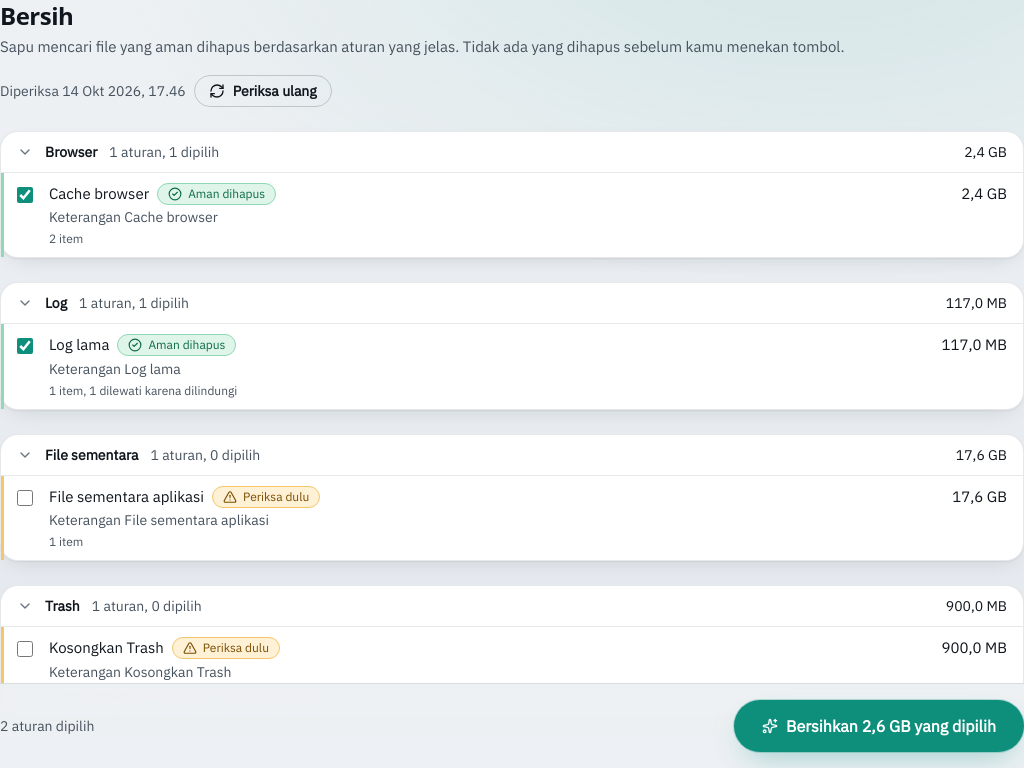
CleanView › previews before cleaning and requires the permanent acknowledgement for Trash
The width and height of the screenshot is (1024, 768).
Check: the checkbox labelled "Cache browser" is shown, box [17,186,33,202]
Click the checkbox labelled "Kosongkan Trash": (25, 649) [17,641,33,657]
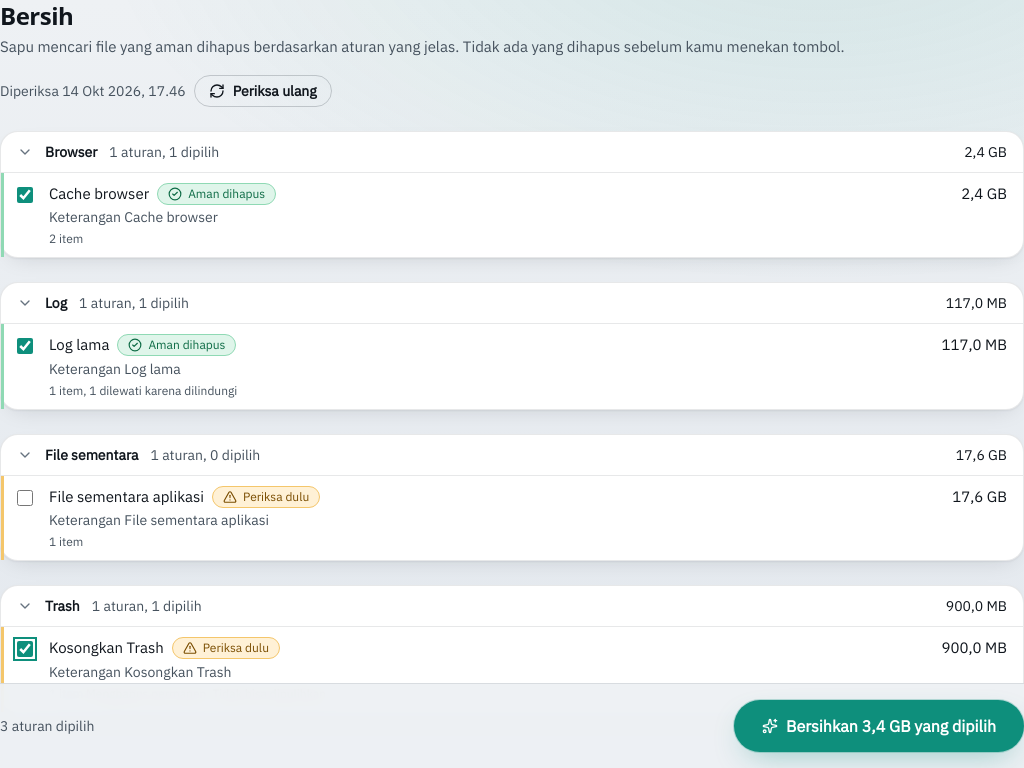
Click the button "Bersihkan 3,4 GB yang dipilih": (879, 726) [734,700,1023,752]
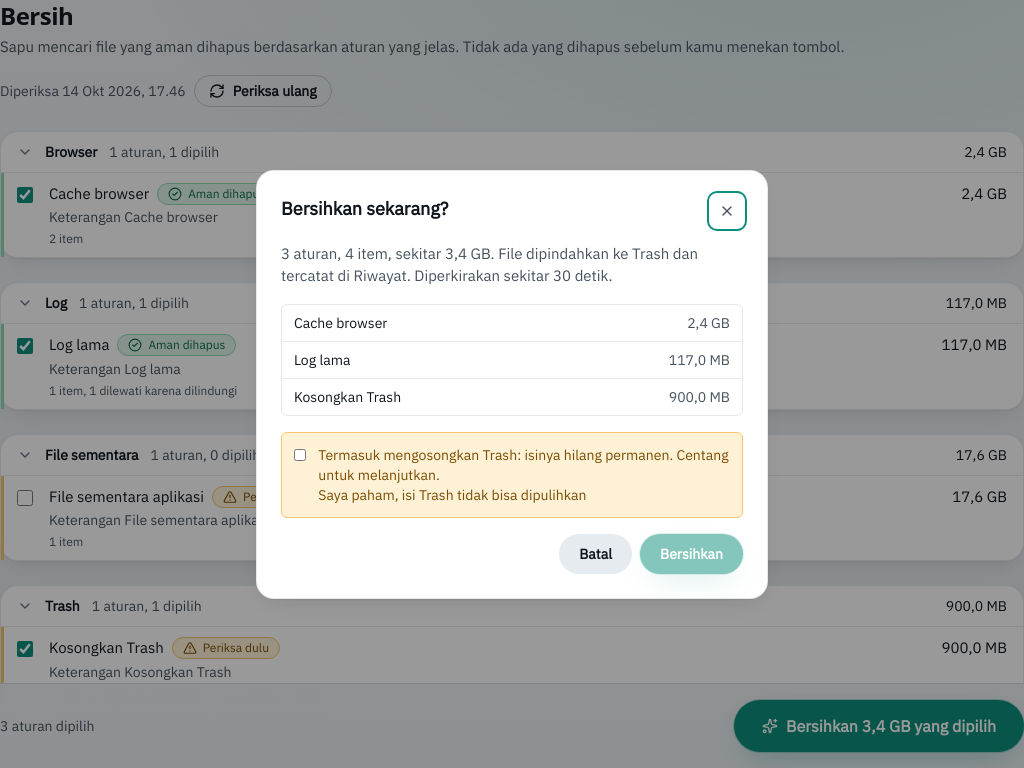
Check: the heading "Bersihkan sekarang?" is shown, box [281,194,448,222]
Check: the button "Bersihkan" is disabled, box [640,534,743,574]
Click the checkbox: (300, 454) [294,446,306,462]
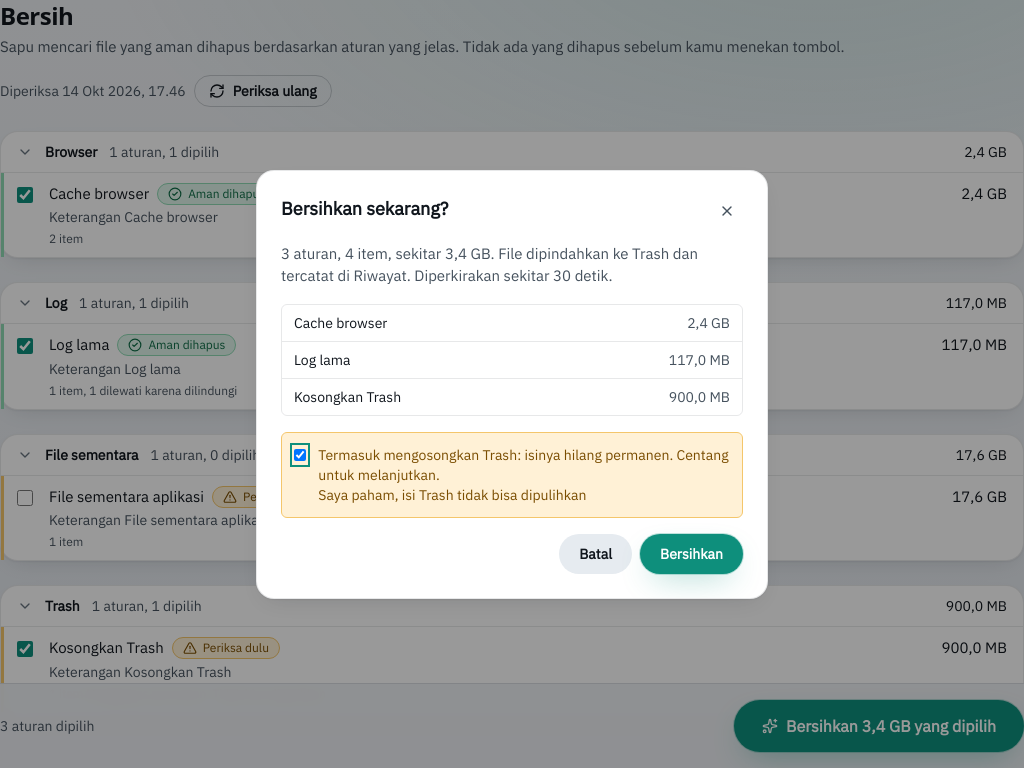
Check: the button "Bersihkan" is enabled
Click the button "Bersihkan": (692, 554) [640,534,743,574]
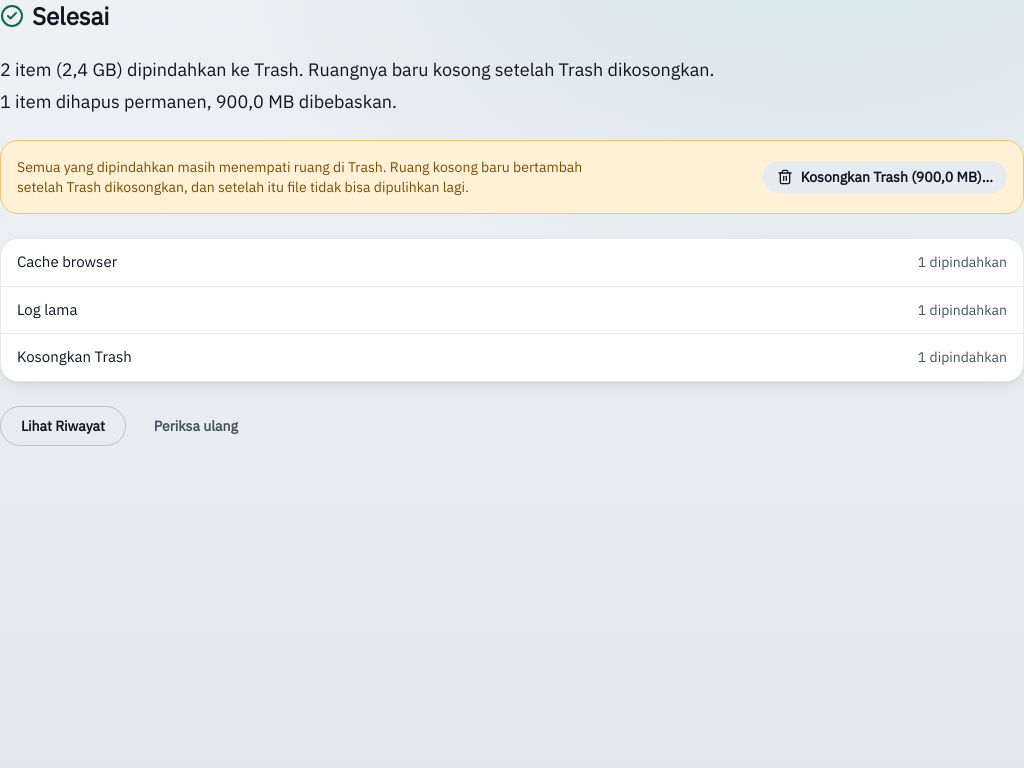
Check: the list item "dipindahkan ke Trash" does not show "dibebaskan", box [0,58,714,81]
Check: the heading "Selesai" is shown, box [0,0,109,32]
Check: the list item "1 item dihapus permanen, 900,0 MB dibebaskan." is shown, box [0,90,397,113]
